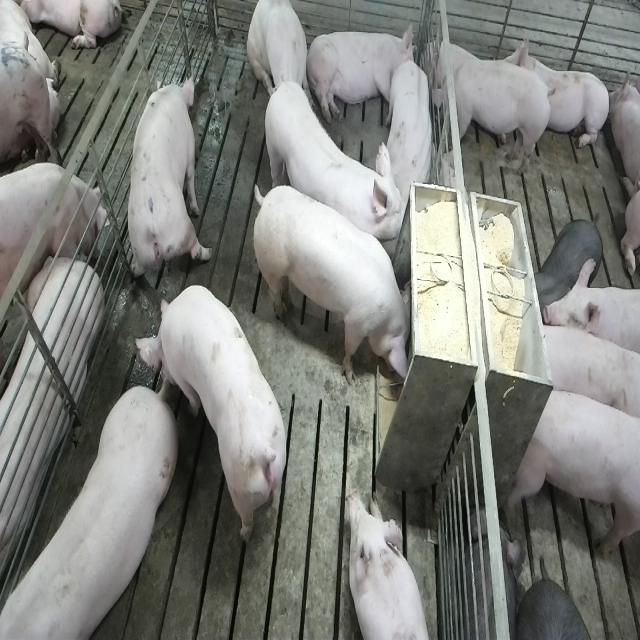Feeding: (255, 177, 420, 398)
Lateral_lying: (0, 244, 103, 591), (306, 20, 416, 126)
Sitting: (247, 1, 310, 115)
Standing: (0, 383, 175, 640), (140, 285, 293, 547), (260, 78, 399, 256), (504, 384, 638, 561), (125, 72, 211, 292), (0, 163, 107, 310), (429, 58, 554, 181), (537, 320, 638, 428), (543, 256, 640, 359)
Sternal_lying: (348, 488, 435, 640), (510, 33, 611, 155)
